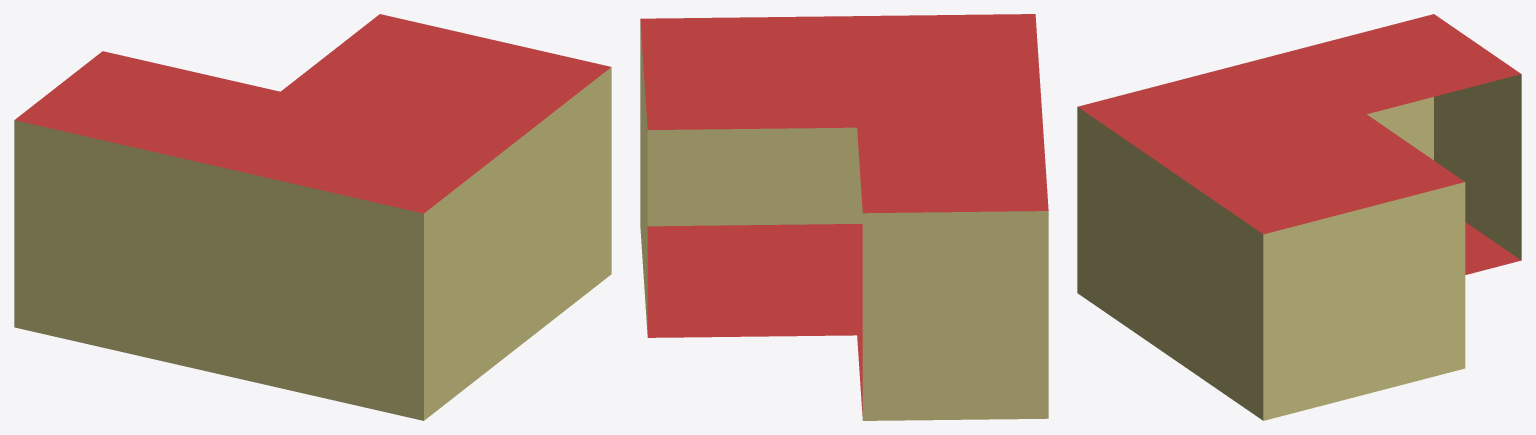
The picture shows the model from 3 angles, left to right: view 1: azimuth 30°, elevation 25°; view 2: azimuth 150°, elevation 25°; view 3: azimuth 270°, elevation 25°; orthographic projection. The views are drawn at different scales.
Size of the model in its own units: 13.27 by 11.29 by 5.24.
